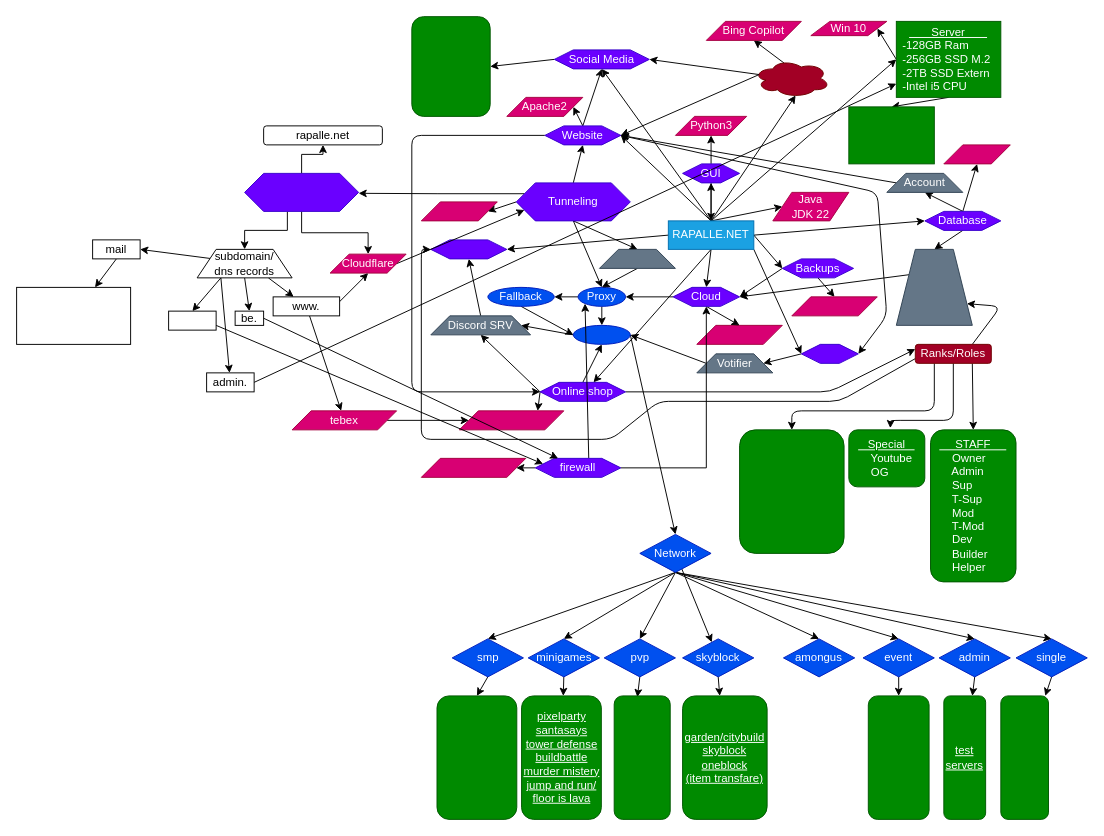
The diagram is 1104 pixels wide and 836 high, and some of its shapes have lost their labels. The shapes that lost their labels are listed below. From the top down, each one's box as (x1, y1, x2, y2) in pixels, then its label:
(411, 16, 490, 116): Channels -Whatsapp -Instagram -Youtube -Twitch -X/Twitter -Tiktok
(753, 58, 830, 97): Graphics
(848, 106, 934, 164): Schnittstellen -VNC -SSH -FTP
(943, 144, 1010, 164): Mysql
(244, 172, 359, 211): Domain
(420, 201, 497, 221): Playit.gg
(430, 239, 507, 259): Discord
(598, 248, 675, 268): Geyser
(791, 296, 877, 316): eBackup
(895, 248, 972, 325): Vault Storage Bans/OPs Luckperms Backpacks player: inv,...
(16, 286, 131, 344): user@rapalle.net mail@rapalle.net support@rapalle.net
(168, 310, 216, 330): play.
(572, 324, 630, 344): Lobby
(696, 324, 782, 344): PoloCloud
(800, 343, 858, 363): Vote
(458, 410, 564, 430): Crafting Store
(420, 457, 526, 477): TCPShield
(739, 429, 844, 553): Community Mvp++ Mvp+ Mvp Vip+ Vip ----------------- Player/Everyone
(436, 695, 517, 819): all the mods 9 vanilla light modpack
(613, 695, 670, 819): duels bedwars skywars training
(867, 695, 929, 819): community events
(1000, 695, 1049, 819): every players own private small server
